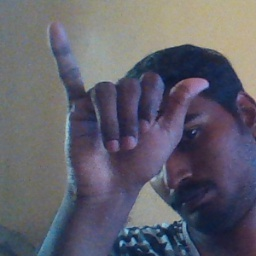J: (47, 20, 211, 191)
